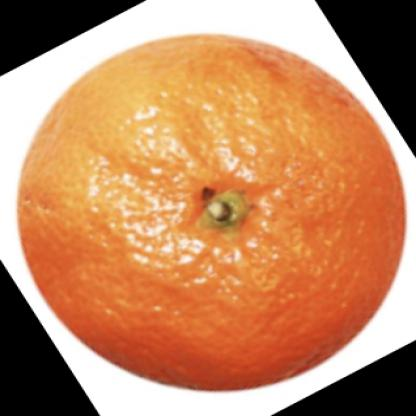orange: (9, 27, 405, 392)
